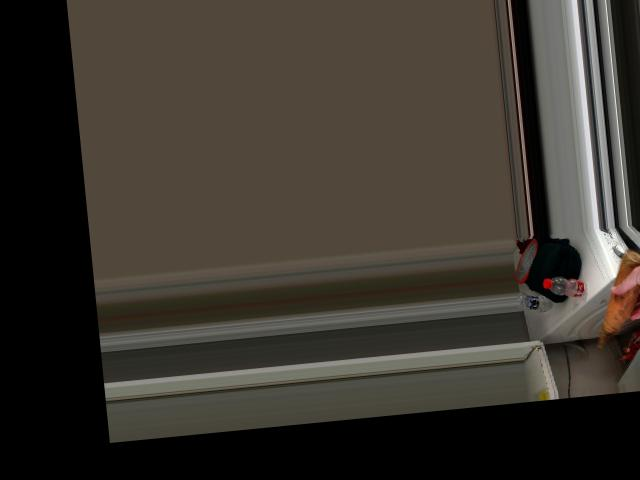sweet_potato: (595, 255, 640, 325)
